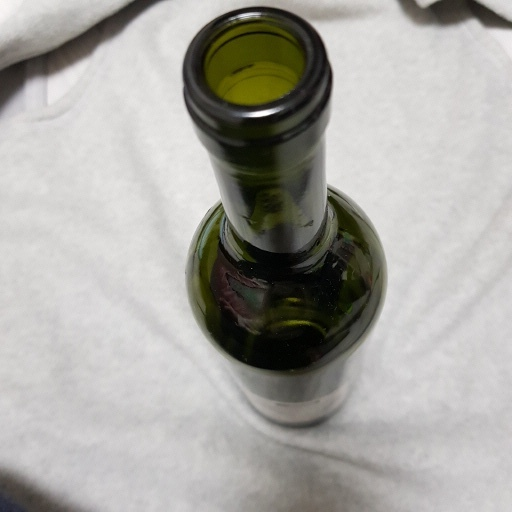Glass_2: (168, 5, 392, 439)
